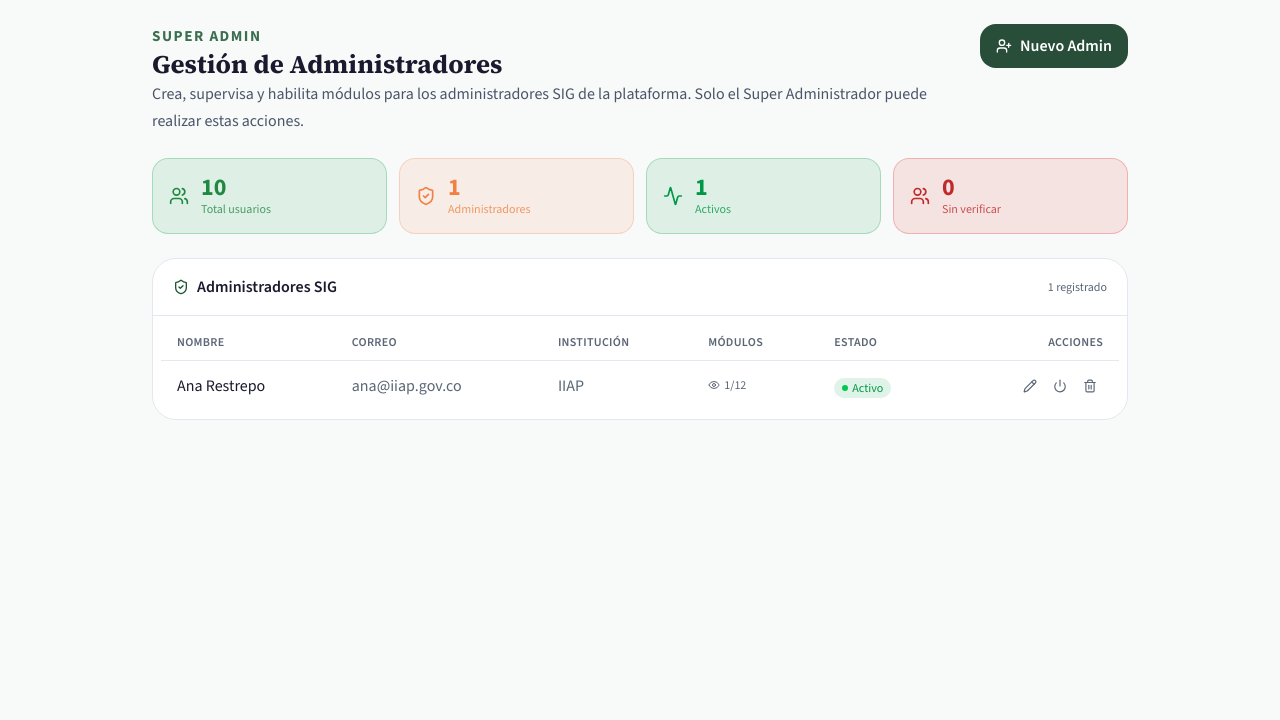
GestionAdmins — permisos por módulo › abrir "Editar módulos" muestra el catálogo con el estado actual de permisos
This screenshot has width=1280, height=720.
Click the button named "Editar módulos de Ana Restrepo" at point(1030, 386), box [1017, 373, 1043, 399]
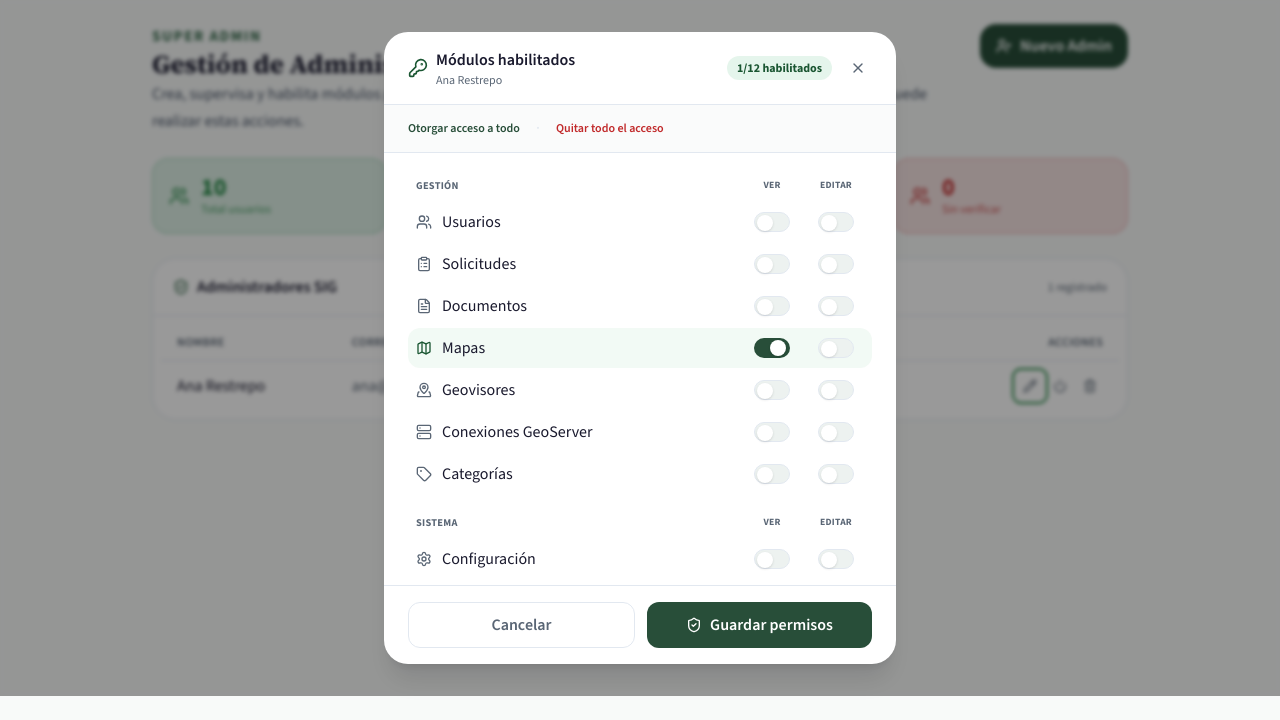
Expected: the heading "Módulos habilitados" is shown, [436, 48, 575, 72]
Expected: the switch named "Ver Mapas" is checked, [754, 338, 790, 358]
Expected: the switch named "Editar Mapas" is not checked, [818, 338, 854, 358]
